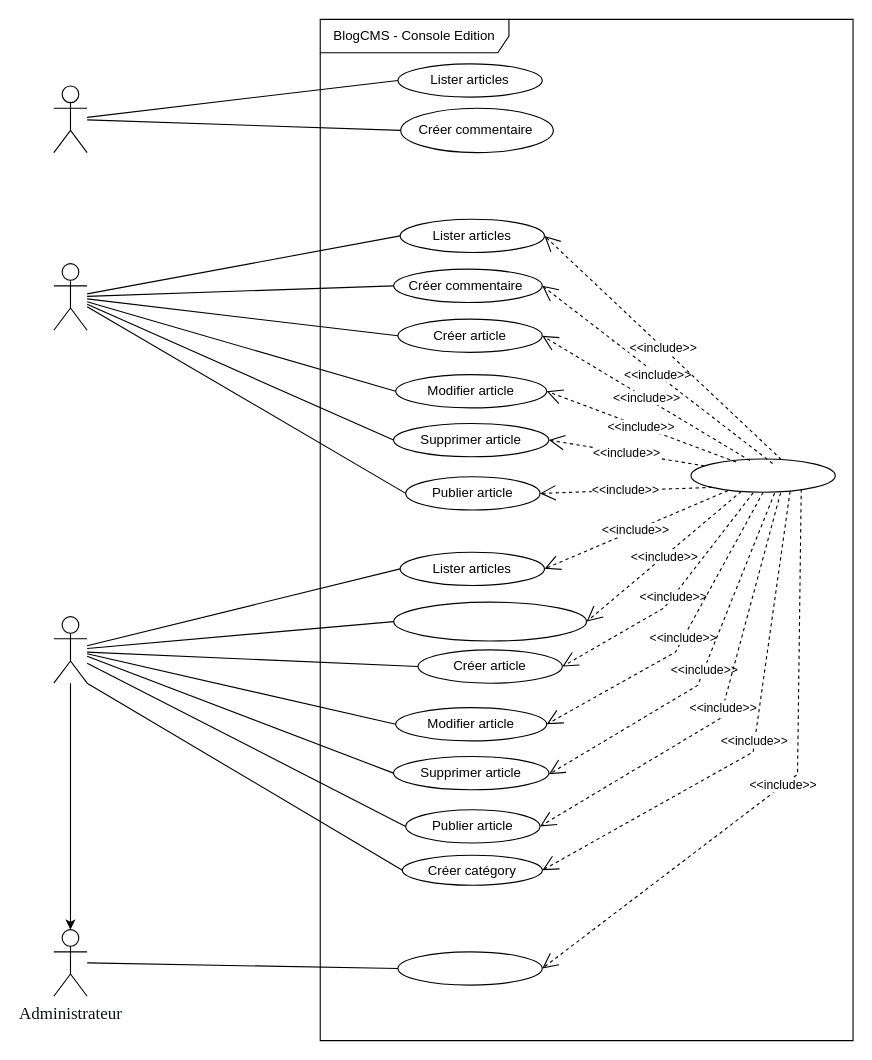
The diagram is 872 pixels wide and 1060 high, and some of its shapes have lost their labels. The centre of each missing label's shape, as x and y in pixels:
Auteur: the point at 70,296
Gérer utilisateurs: the point at 469,968
S'identifier: the point at 762,475
Supprimer commentaire: the point at 490,621
Visiteur: the point at 70,119
Éditeur: the point at 70,649
